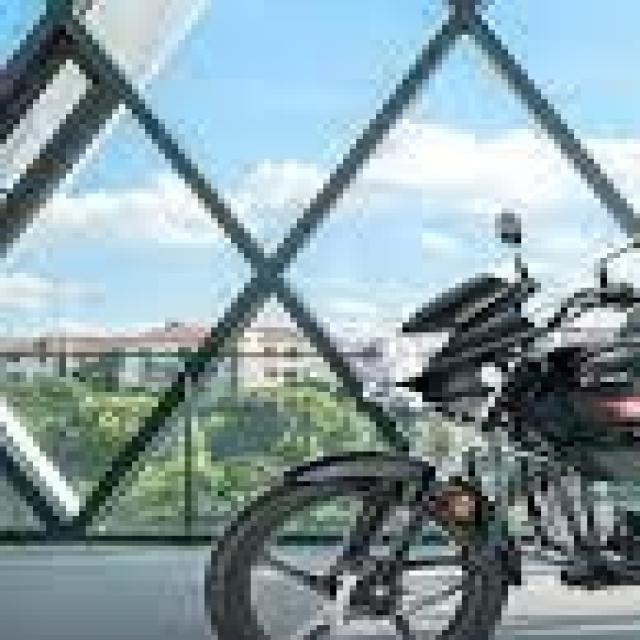bike: (198, 208, 640, 640)
